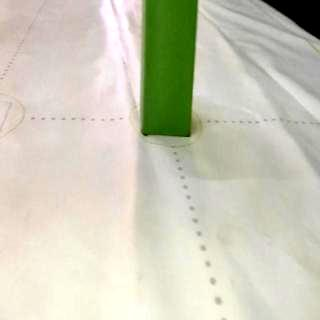greenbox: (140, 0, 198, 136)
